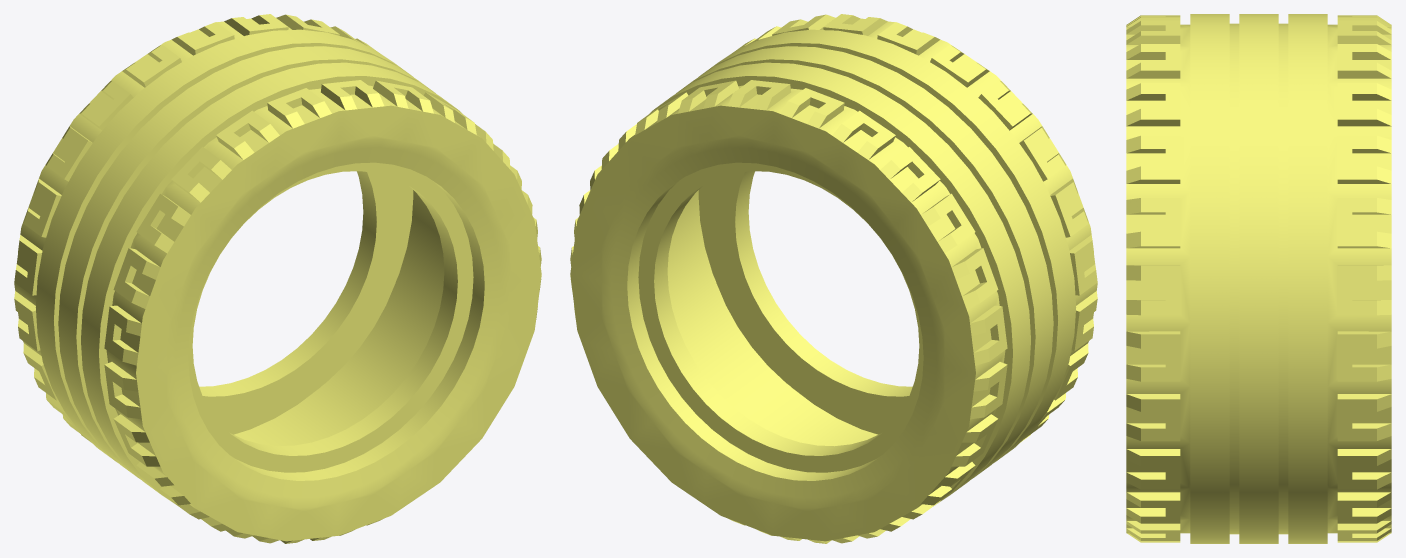
3 views of the same model, side by side, from view 1: azimuth 30°, elevation 25°; view 2: azimuth 150°, elevation 25°; view 3: azimuth 270°, elevation 25° (orthographic). The views are drawn at different scales.
Parts seen in each view (by area): view 1: 44309.dat; view 2: 44309.dat; view 3: 44309.dat.
Part boxes in pixels (x1=…): 44309.dat: x1=14, y1=14, x2=541, y2=543; 44309.dat: x1=570, y1=14, x2=1097, y2=543; 44309.dat: x1=1126, y1=14, x2=1391, y2=543.
Bounding box in the file's own units: 0.0432 × 0.0432 × 0.0216.
